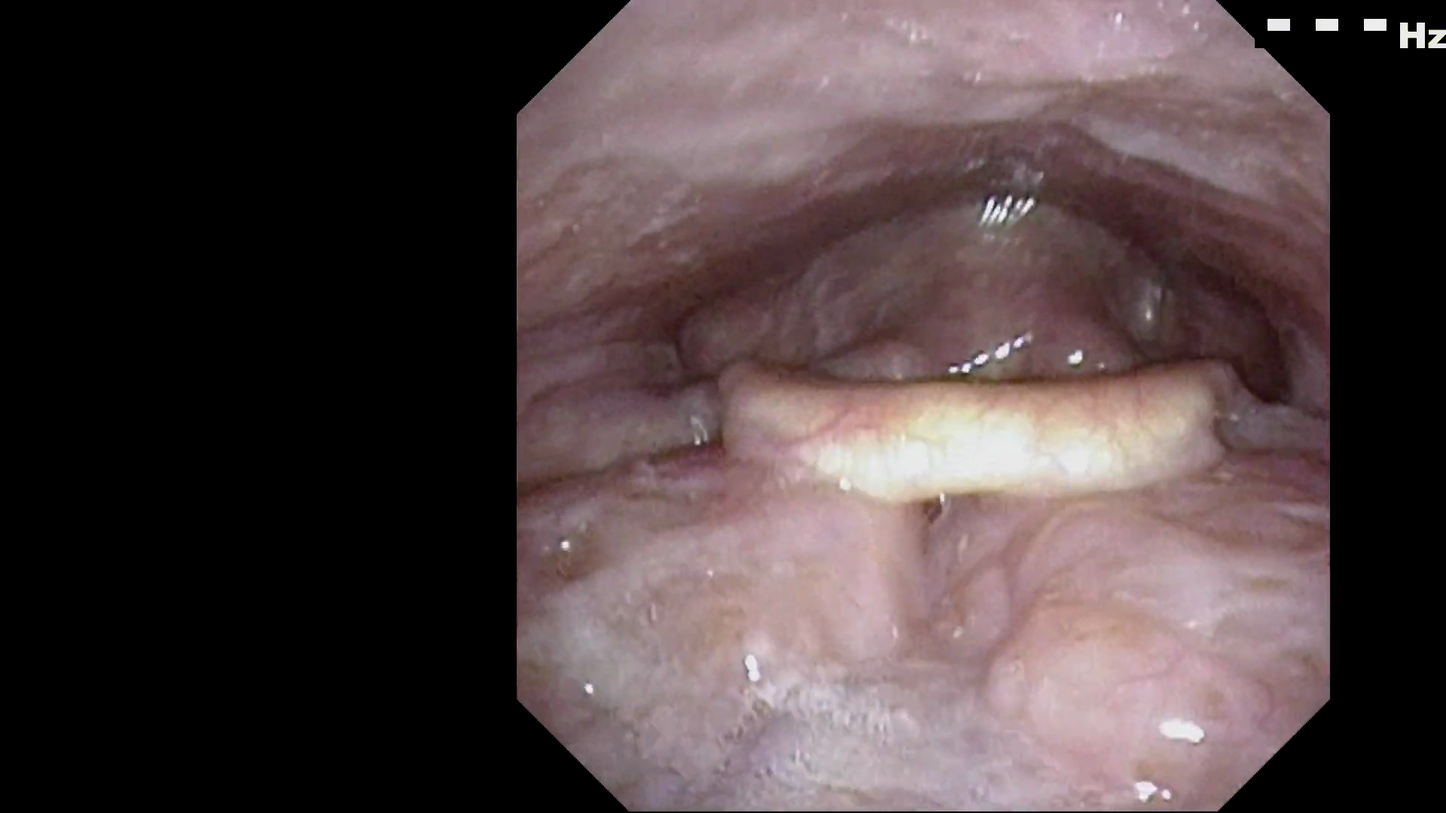epiglottis: (702, 339, 1275, 593)
trachea: (936, 355, 1054, 479)
